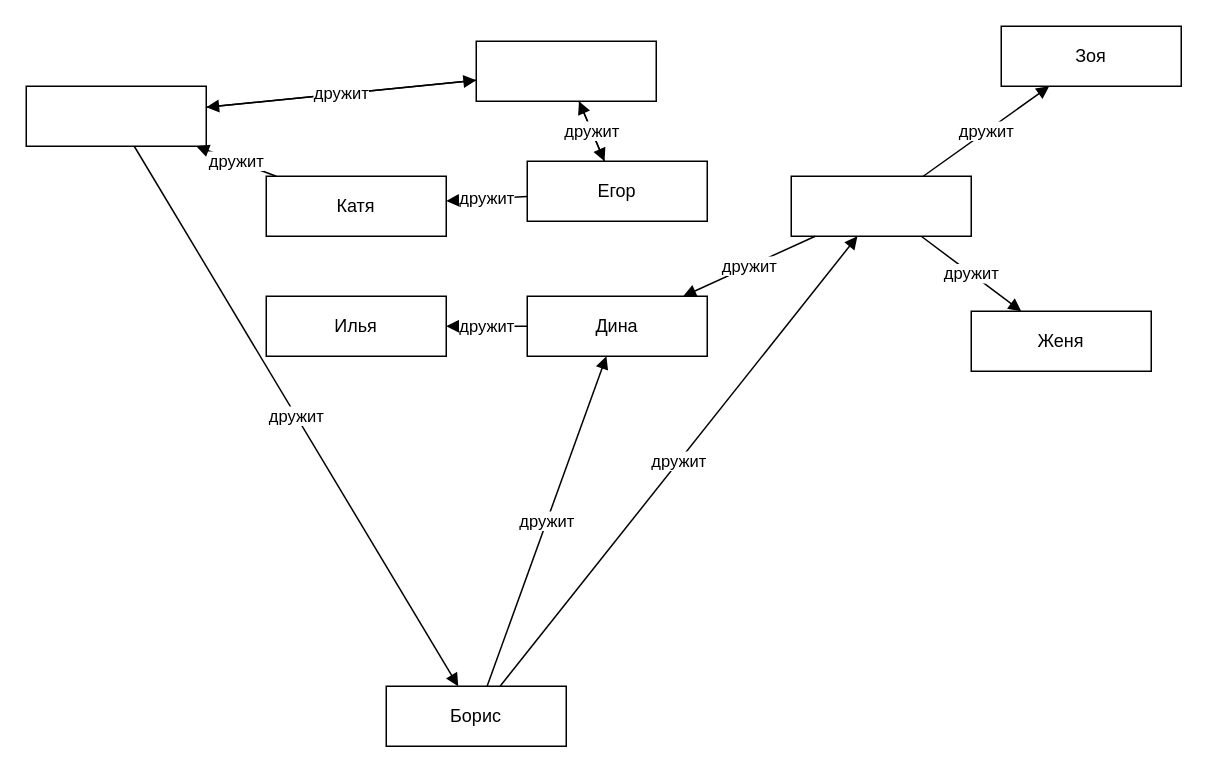
The diagram is 1208 pixels wide and 773 high, and some of its shapes have lost their labels. Here are the shapes that lost their labels. From the top down, the centre of each, then its label:
At pixel 565 70: "Вика".
At pixel 115 115: "Аня".
At pixel 880 205: "Глеб".
